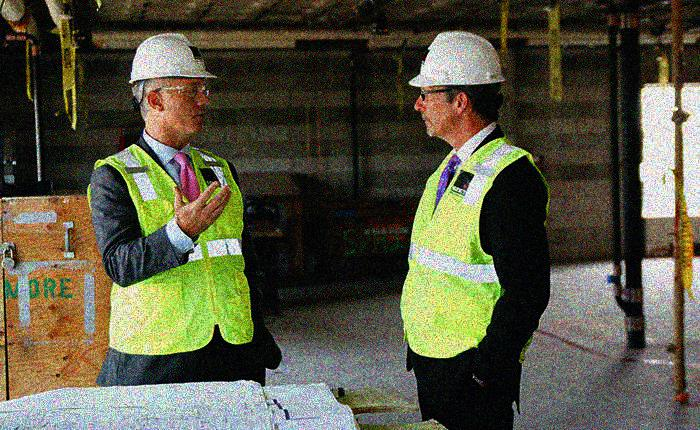helmet: (408, 29, 508, 143), (127, 31, 220, 138)
